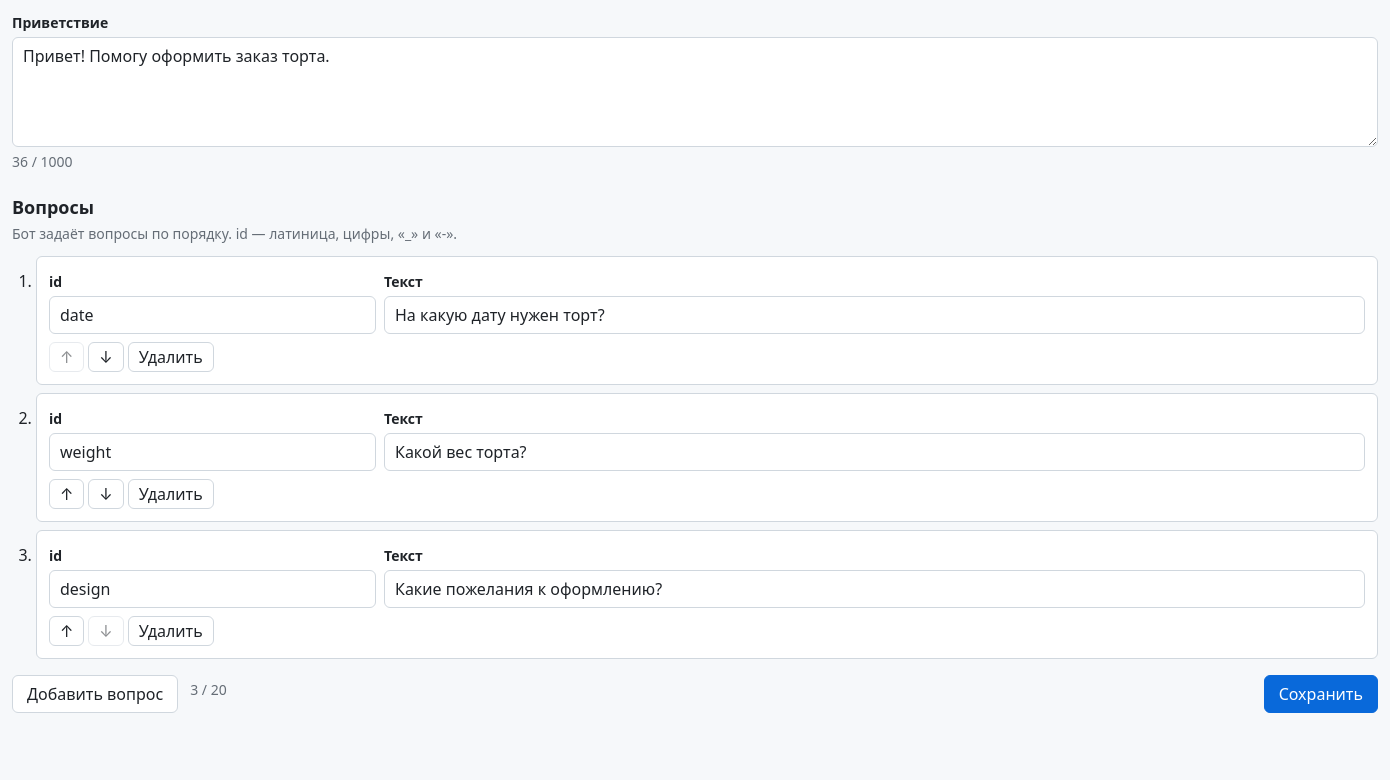
Test: shows server errors at their fields
The image size is (1390, 780).
Click the button "Сохранить" at (1321, 694), box [1264,674,1378,712]
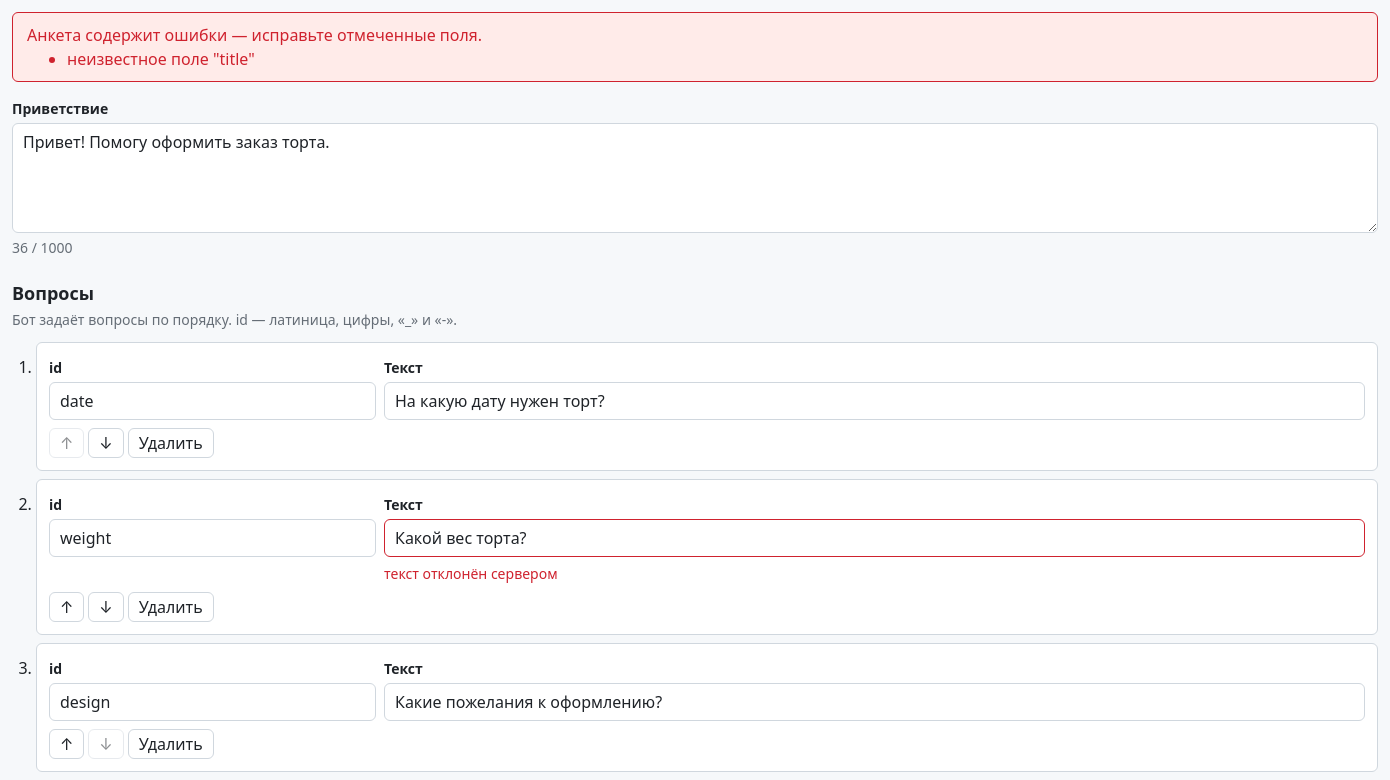
Expected: the message shows "Анкета содержит ошибки", [27,24,482,46]
Expected: the message shows "неизвестное поле \"title\"", [67,48,255,70]
Expected: the text "текст отклонён сервером" is shown, [384,564,558,582]
